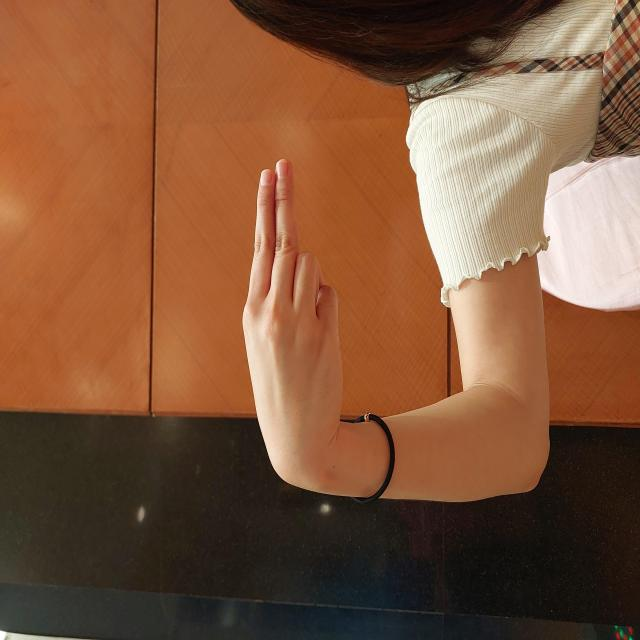H: (145, 242, 482, 342)
